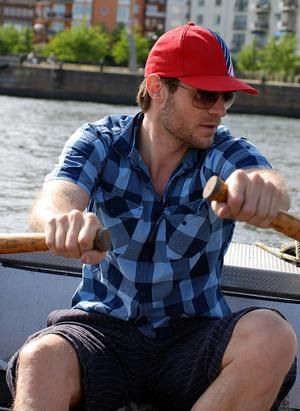person: (12, 24, 296, 411)
